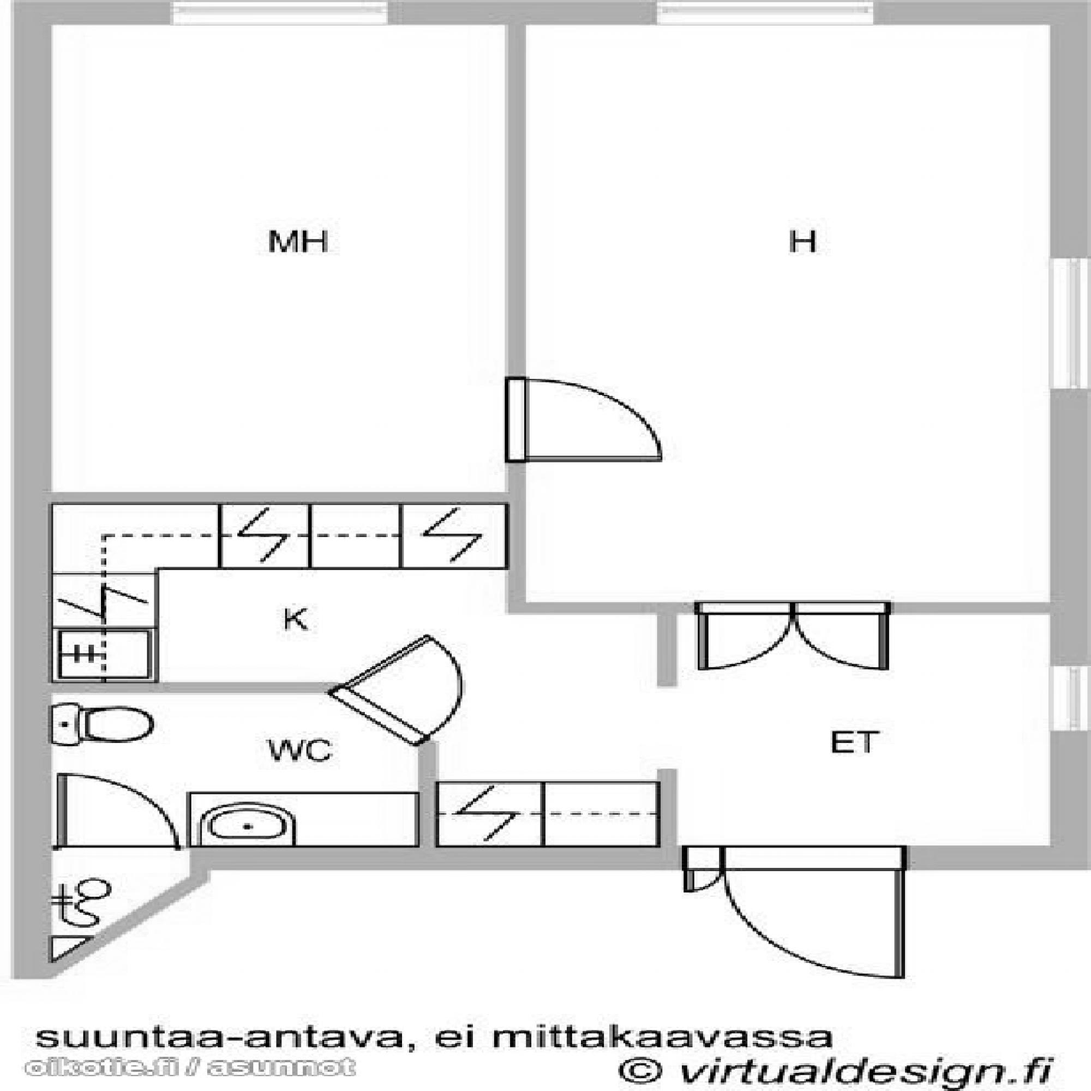wall: (12, 2, 51, 978), (1051, 2, 1090, 870), (11, 2, 1090, 26), (189, 846, 1090, 870), (57, 874, 209, 978), (506, 26, 529, 615), (506, 601, 1051, 615), (327, 682, 437, 749), (51, 492, 529, 506), (658, 615, 681, 870), (51, 681, 336, 695), (415, 742, 437, 846), (50, 846, 188, 855), (11, 961, 57, 977), (189, 846, 208, 877)
